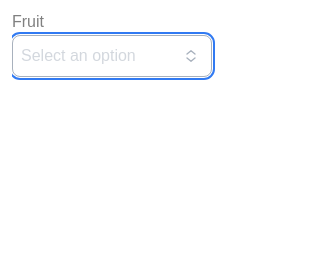
ListBox — search filtering › filters options as the user types in the search box
Press Arrowdown
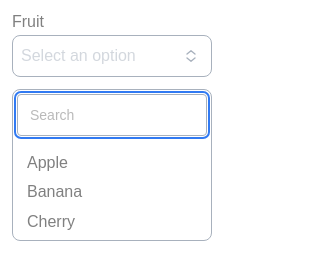
In the field named "Search options": [112, 115] box top-left (17, 94), bottom-right (207, 136), type "ban"
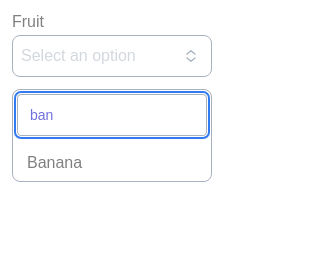
expect the number of options is 1: met, box top-left (17, 148), bottom-right (207, 177)
expect the option reads "Banana": met, box top-left (17, 148), bottom-right (207, 177)
expect the option "Apple" is gone: met
